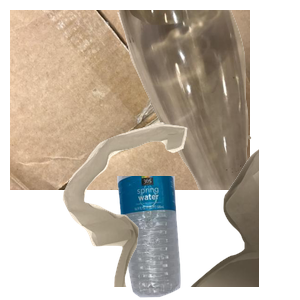cardboard: (10, 10, 250, 190)
glass: (115, 10, 300, 190)
plastic: (115, 176, 288, 300)
trash: (60, 120, 300, 300)
